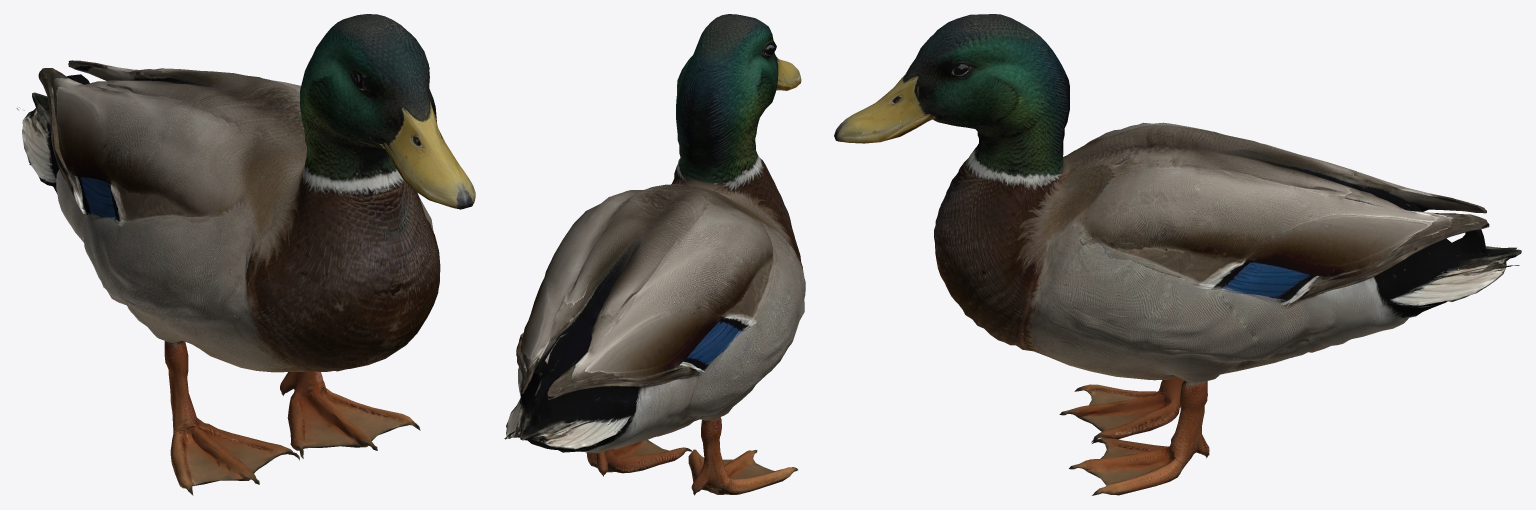
Rendered from duck2.glb.
3 views of the same model, side by side, from view 1: azimuth 30°, elevation 25°; view 2: azimuth 150°, elevation 25°; view 3: azimuth 270°, elevation 25° (orthographic). The views are drawn at different scales.
Parts seen in each view (by area): view 1: 0dc415f4-b7ca-43d2-9760-ce3a6c80f03f_1; view 2: 0dc415f4-b7ca-43d2-9760-ce3a6c80f03f_1; view 3: 0dc415f4-b7ca-43d2-9760-ce3a6c80f03f_1.
Part boxes in pixels (box(x1,y1,x2,y2)): 0dc415f4-b7ca-43d2-9760-ce3a6c80f03f_1: box(16, 14, 475, 495); 0dc415f4-b7ca-43d2-9760-ce3a6c80f03f_1: box(504, 14, 805, 495); 0dc415f4-b7ca-43d2-9760-ce3a6c80f03f_1: box(834, 14, 1521, 495).
Bounding box in the file's own units: 0.4067 × 0.6956 × 0.9955.
1 material, 1 textured.
